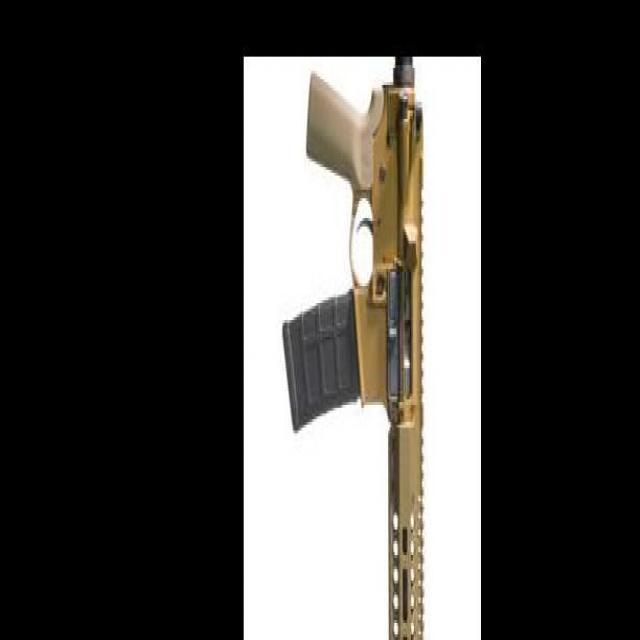weapon: (280, 60, 425, 640)
